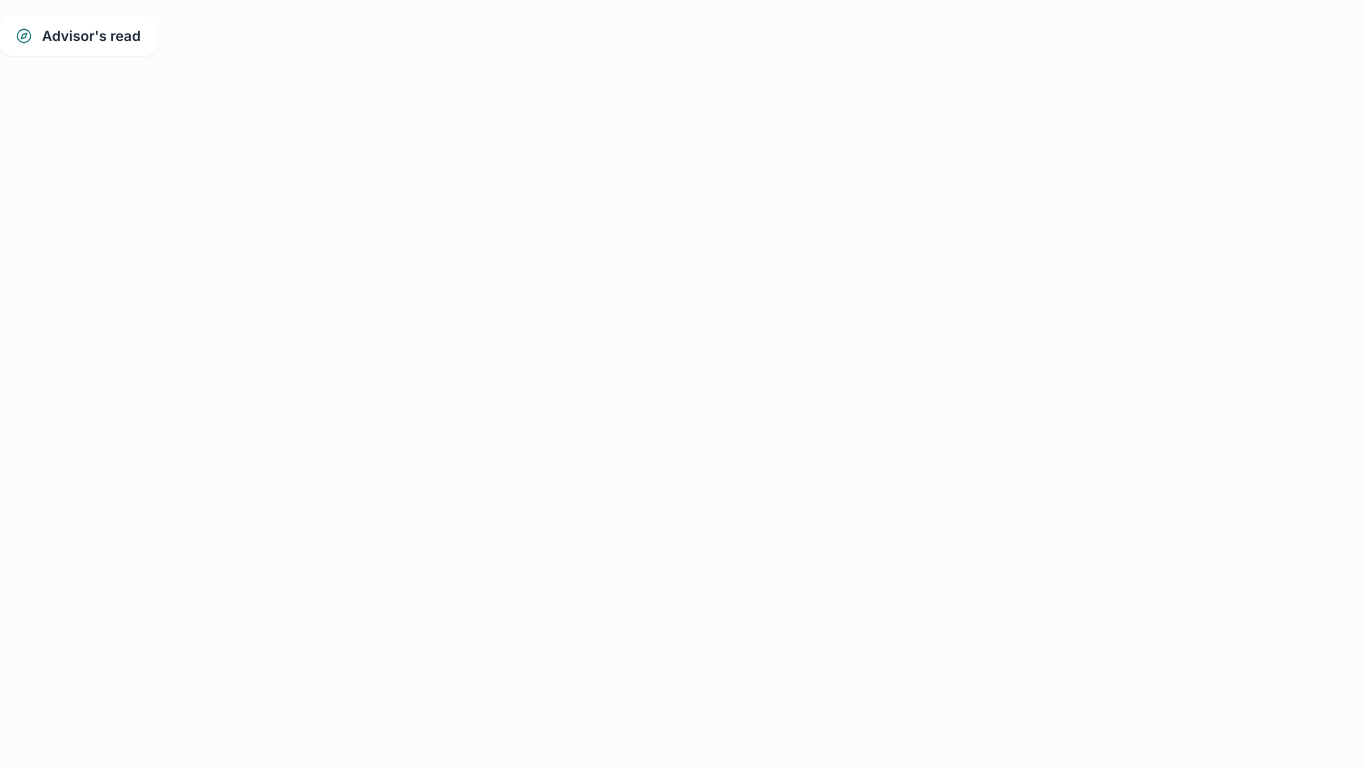
AdvisorReadCard Component › 3. Renders complete Advisor Read with signature, top 3 matters most, tension, settle first, and evidence panel
Click the button "Advisor's read" at (78, 36), box [0,16,157,56]
Wait 1200 ms
(page scrolled)
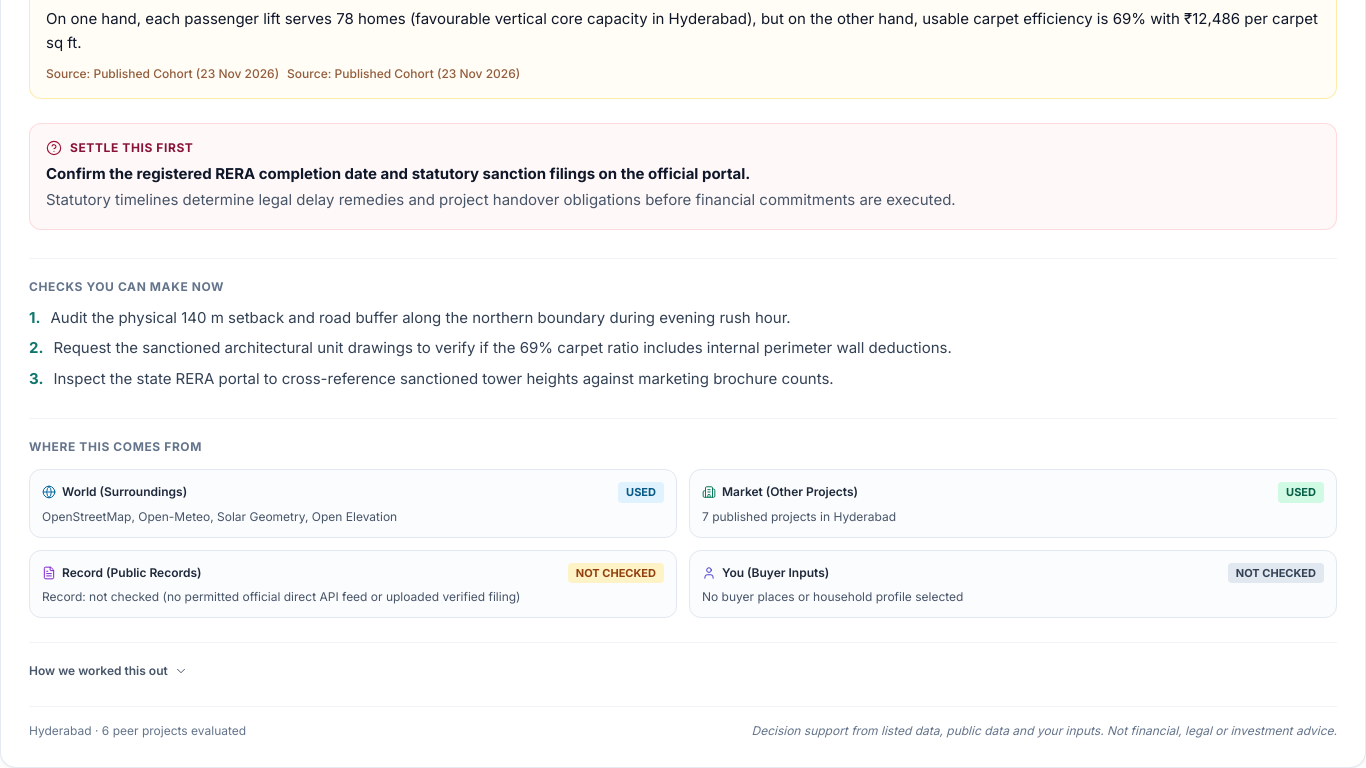
Check: the text "On one hand, each passenger lift serves 78 homes" is shown, box [46,9,1318,52]
Check: the text "SETTLE THIS FIRST" is shown, box [70,140,193,156]
Check: the text "Confirm the registered RERA completion date" is shown, box [46,164,750,182]
